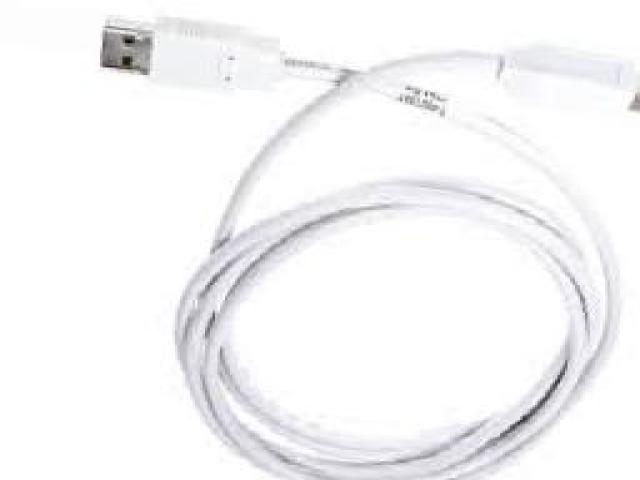wire: (98, 11, 638, 478)
